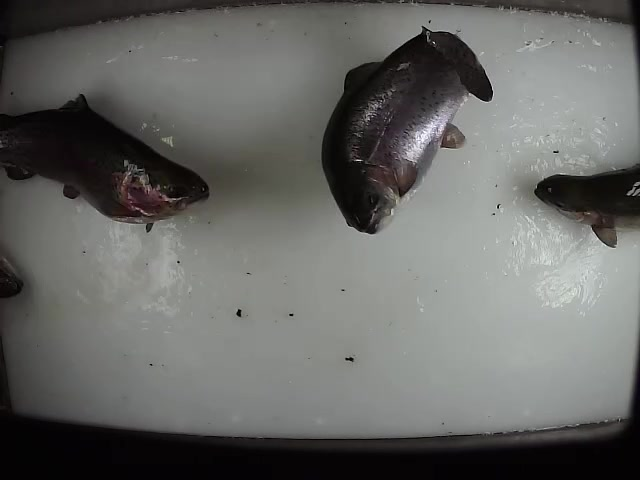fish: (320, 25, 496, 236), (1, 90, 214, 234), (532, 158, 640, 248)
